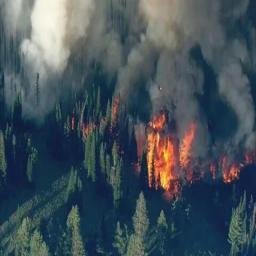Heavy smoke: (3, 3, 253, 158)
Large fire: (139, 115, 256, 200)
